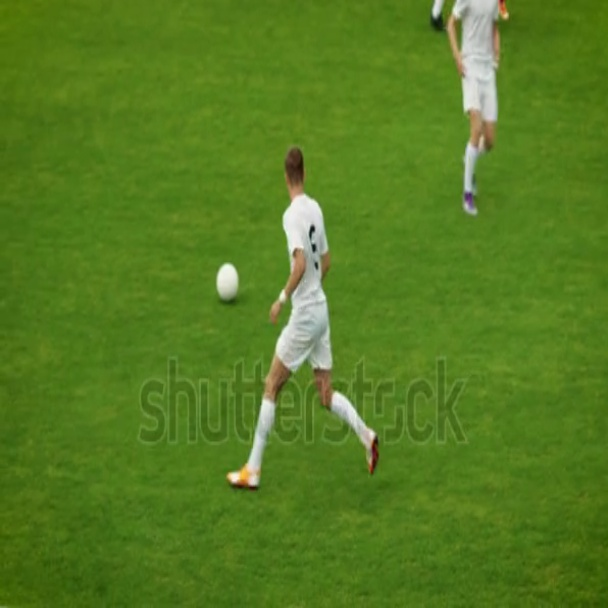ball: (219, 262, 236, 291)
